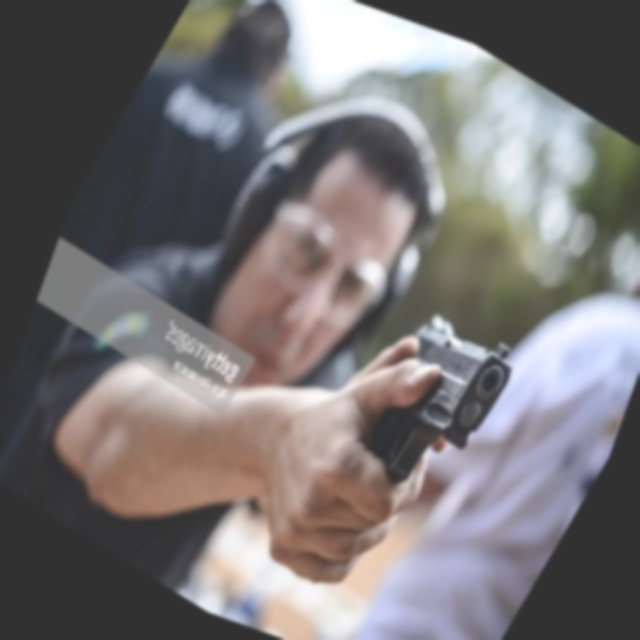gun: (337, 289, 537, 522)
